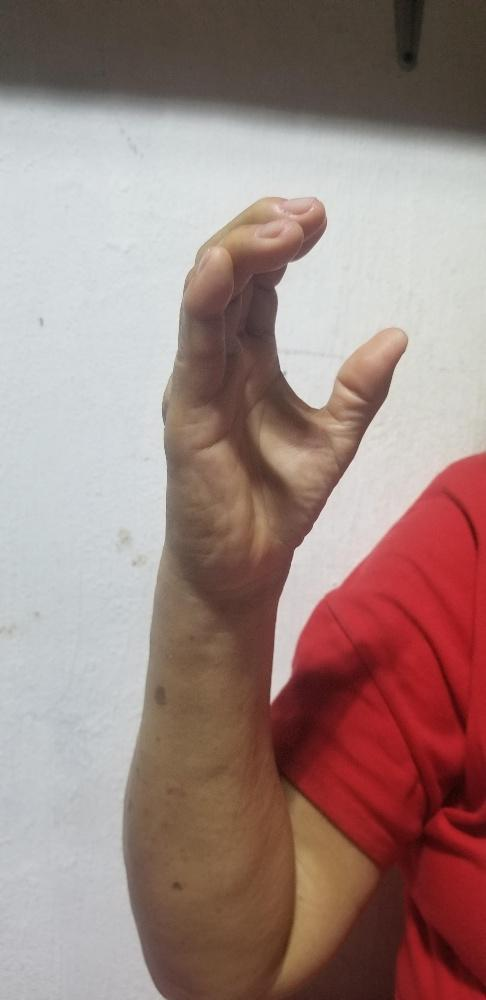c: (160, 192, 410, 579)
